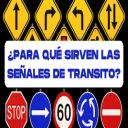speed_limit_60: (53, 90, 75, 128)
